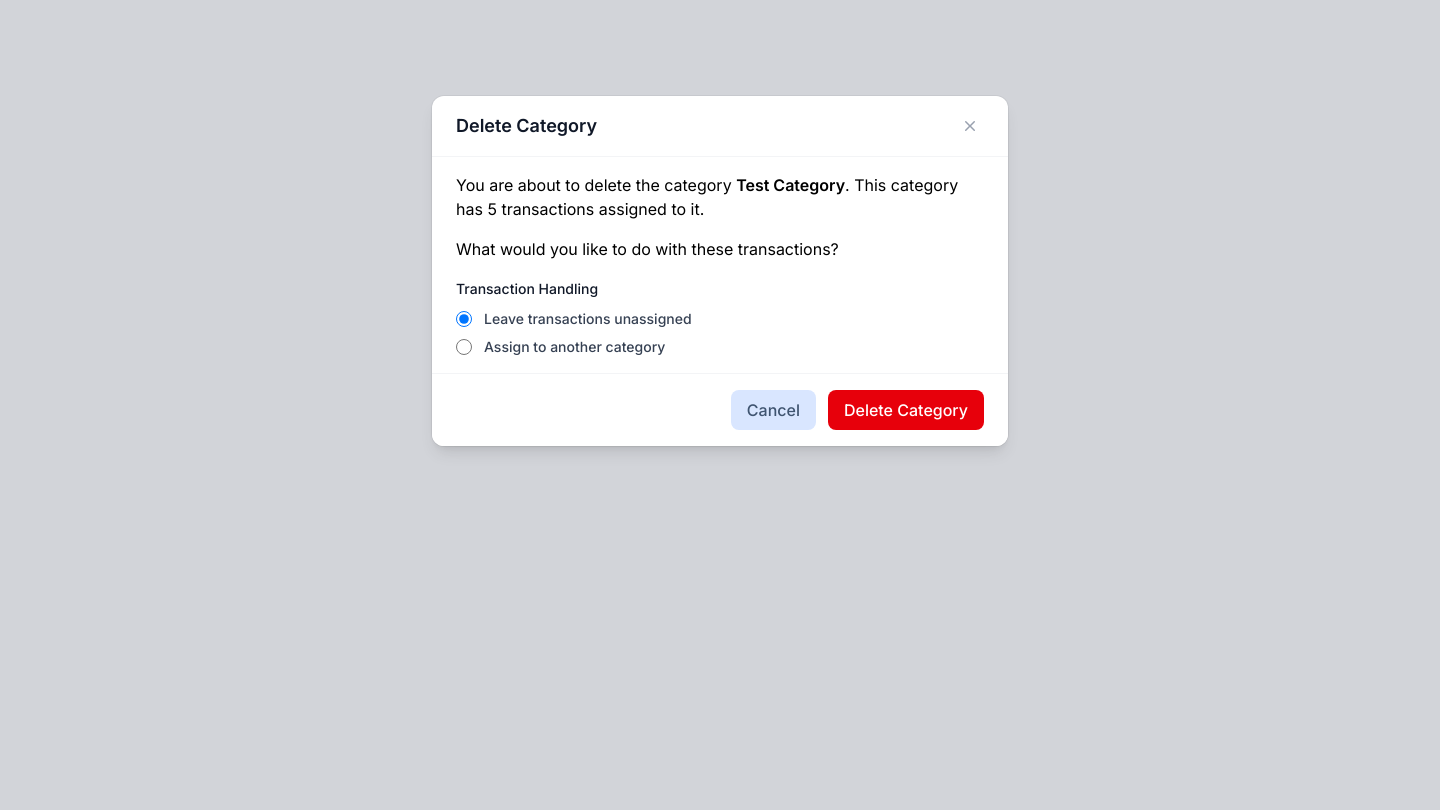
DeleteCategoryModal › shows loading state during deletion
Click the button "Delete Category" at (906, 410), box [828,390,984,430]
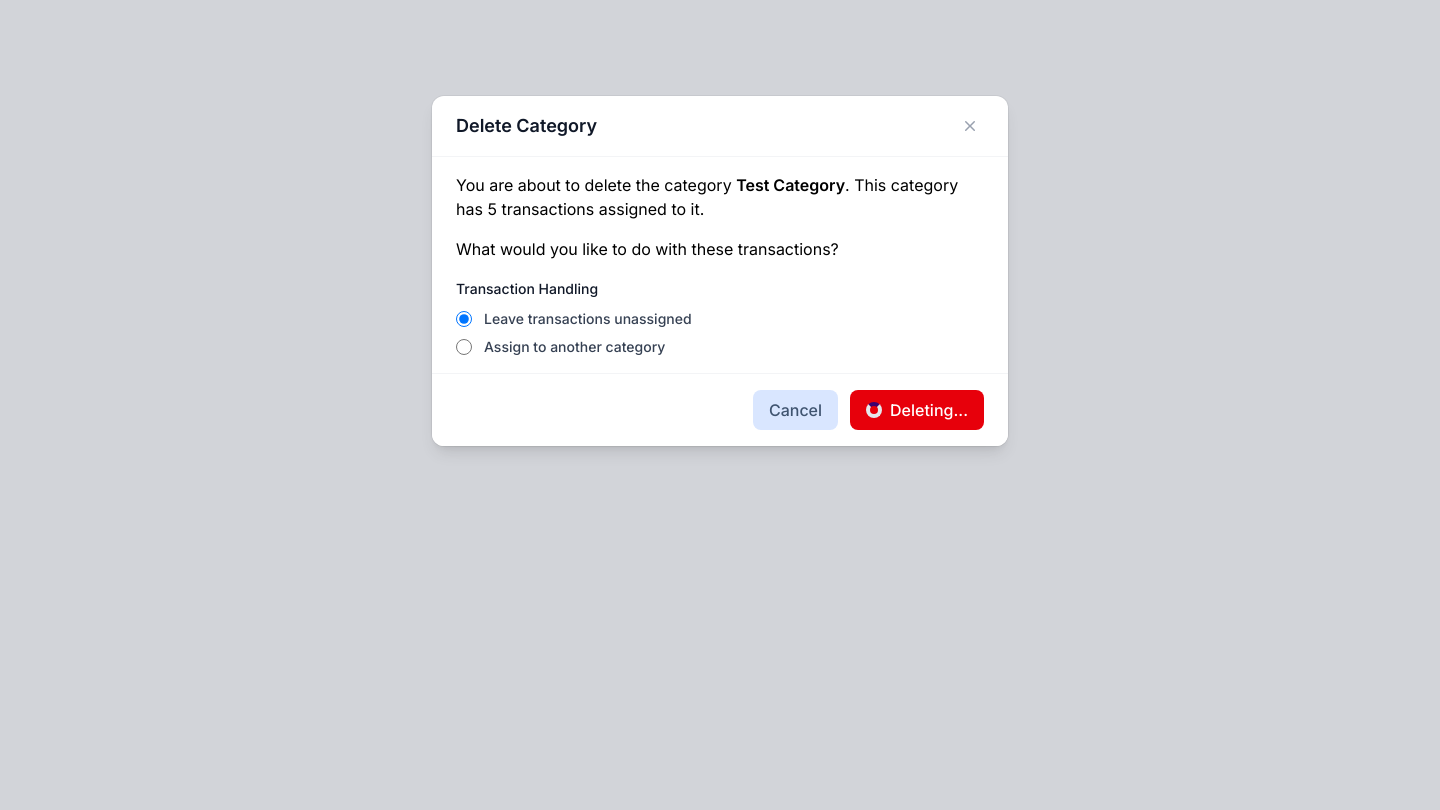
Now the button named "Delete Category" is disabled, box [850,390,984,430]
